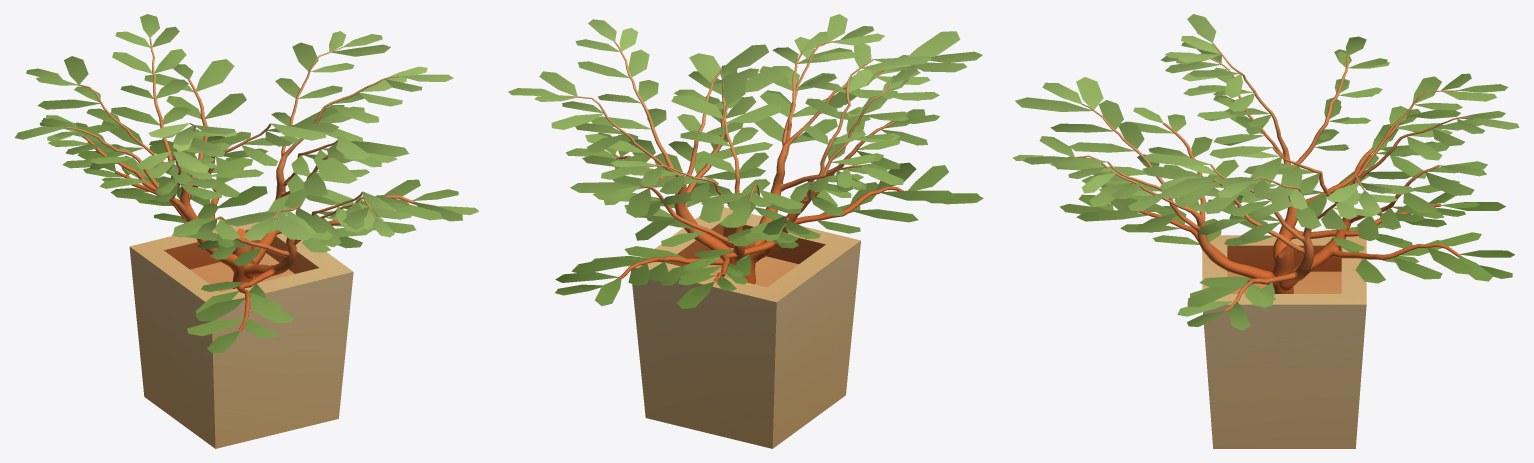
The model's file is drop-box-black-hole.gltf.
3 renders of one model, left to right at view 1: azimuth 30°, elevation 25°; view 2: azimuth 150°, elevation 25°; view 3: azimuth 270°, elevation 25°, orthographic. The views are drawn at different scales.
Visible parts, largest first — view 1: foglie, Cube.001, tronco; view 2: foglie, Cube.001, tronco; view 3: foglie, Cube.001, tronco.
Boxes of the visible parts, x1,y1,x2,y2 form: foglie: (14,14,478,353); Cube.001: (129,222,353,448); tronco: (66,37,416,330); foglie: (508,14,983,308); Cube.001: (631,207,860,448); tronco: (560,39,903,284); foglie: (1012,14,1519,330); Cube.001: (1202,235,1366,448); tronco: (1073,42,1471,311).
Bounding box in the file's own units: 270 × 226 × 307.
